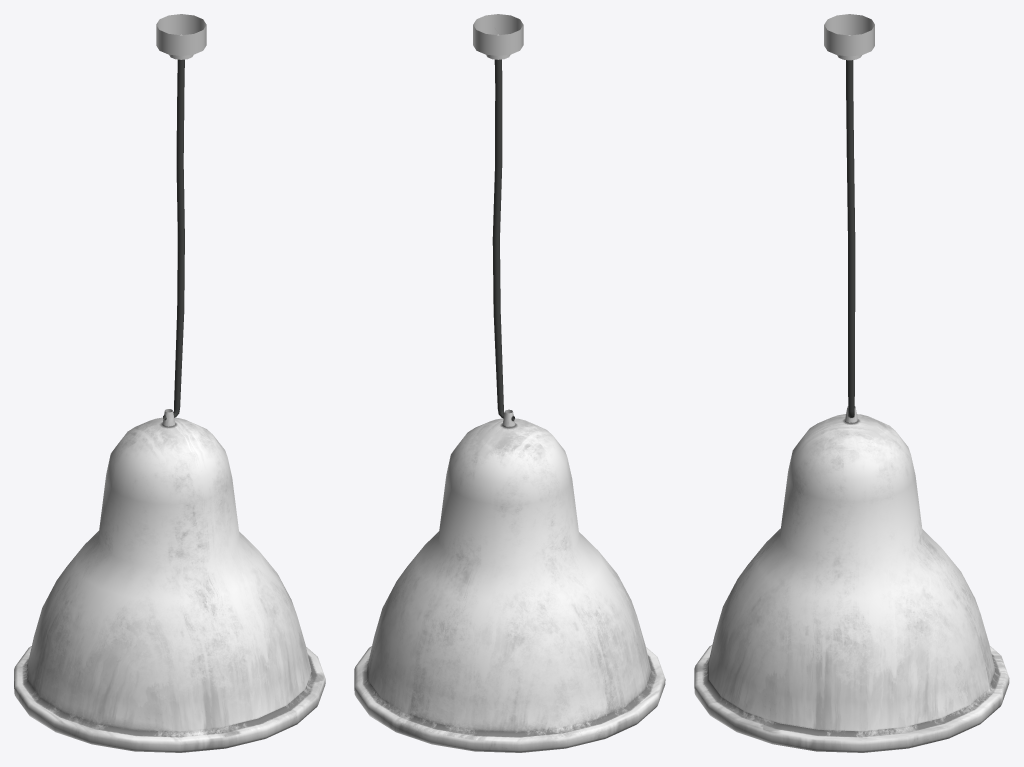
Rendered from SM_lamp_embedded.fbx.
3 views of the same model, side by side, from view 1: azimuth 30°, elevation 25°; view 2: azimuth 150°, elevation 25°; view 3: azimuth 270°, elevation 25° (orthographic).
Visible parts, largest first — view 1: SM_Light_bulb, SM_Light; view 2: SM_Light_bulb, SM_Light; view 3: SM_Light_bulb, SM_Light.
Boxes of the visible parts, left/top/right/bottom form: SM_Light_bulb: left=14, top=409, right=325, bottom=752; SM_Light: left=156, top=14, right=206, bottom=420; SM_Light_bulb: left=354, top=409, right=665, bottom=752; SM_Light: left=473, top=14, right=523, bottom=420; SM_Light_bulb: left=694, top=406, right=1009, bottom=752; SM_Light: left=824, top=14, right=874, bottom=417.
Size of the model in its own units: 76.03 by 178 by 75.81.
1 material, 1 textured.
